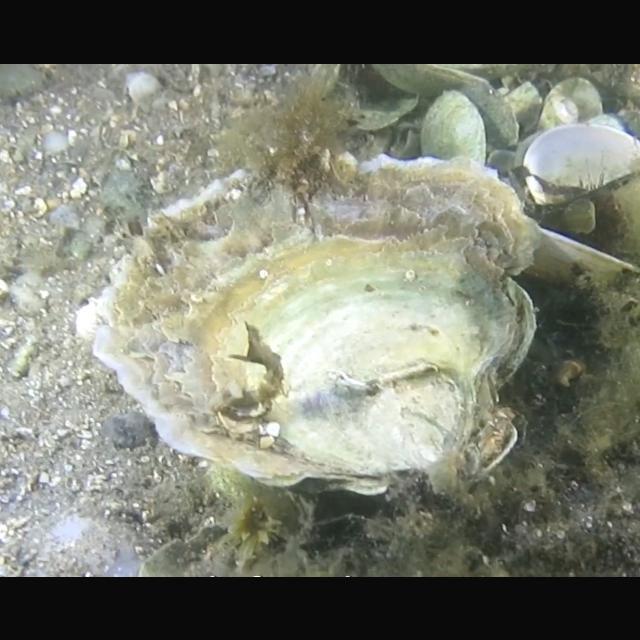Oyster-Closed: (76, 148, 538, 496)
